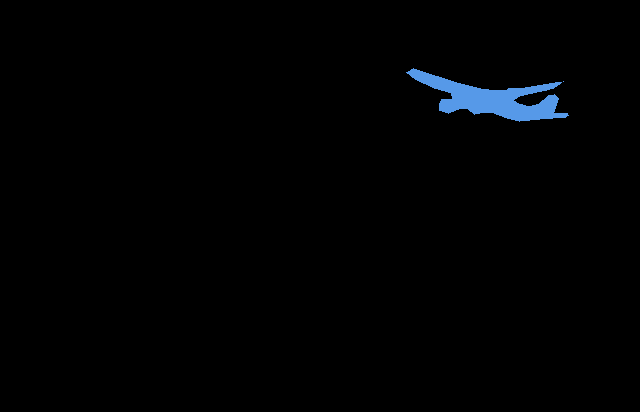Airplane: (406, 68, 569, 122)
